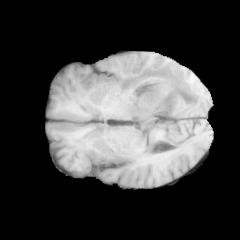glioma: (117, 64, 200, 136)
